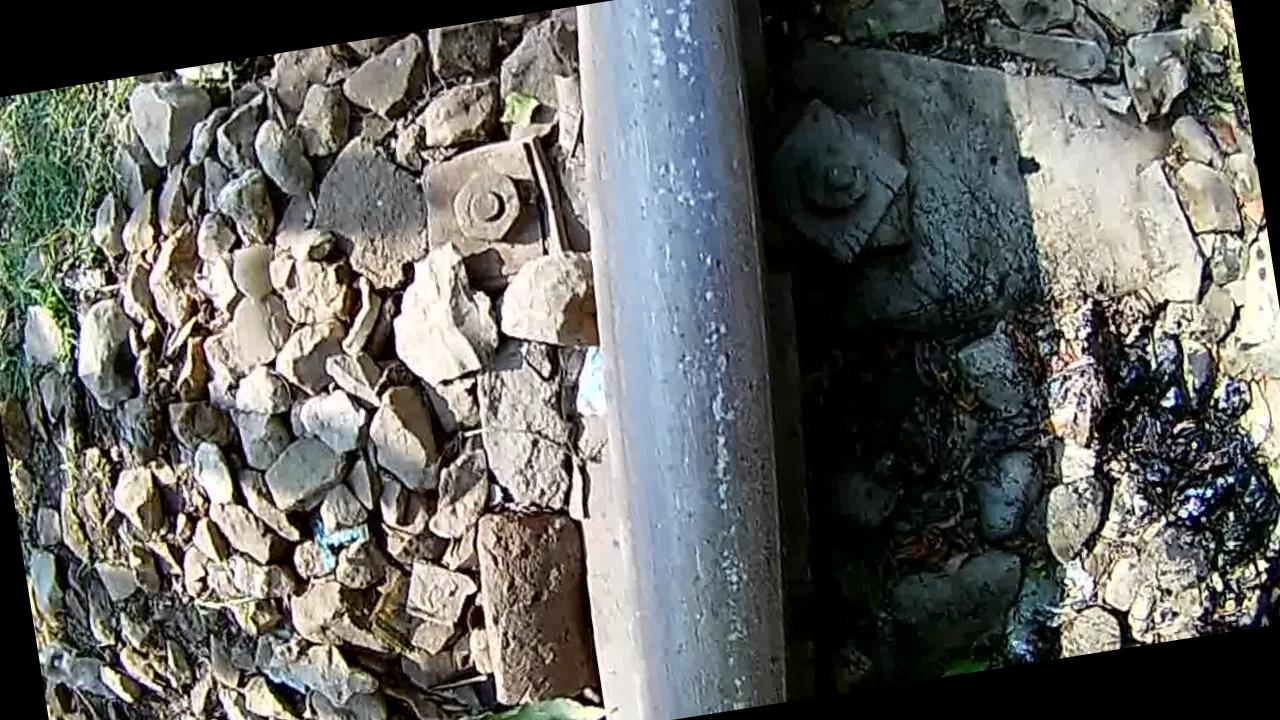clip_missing: (538, 0, 853, 720)
